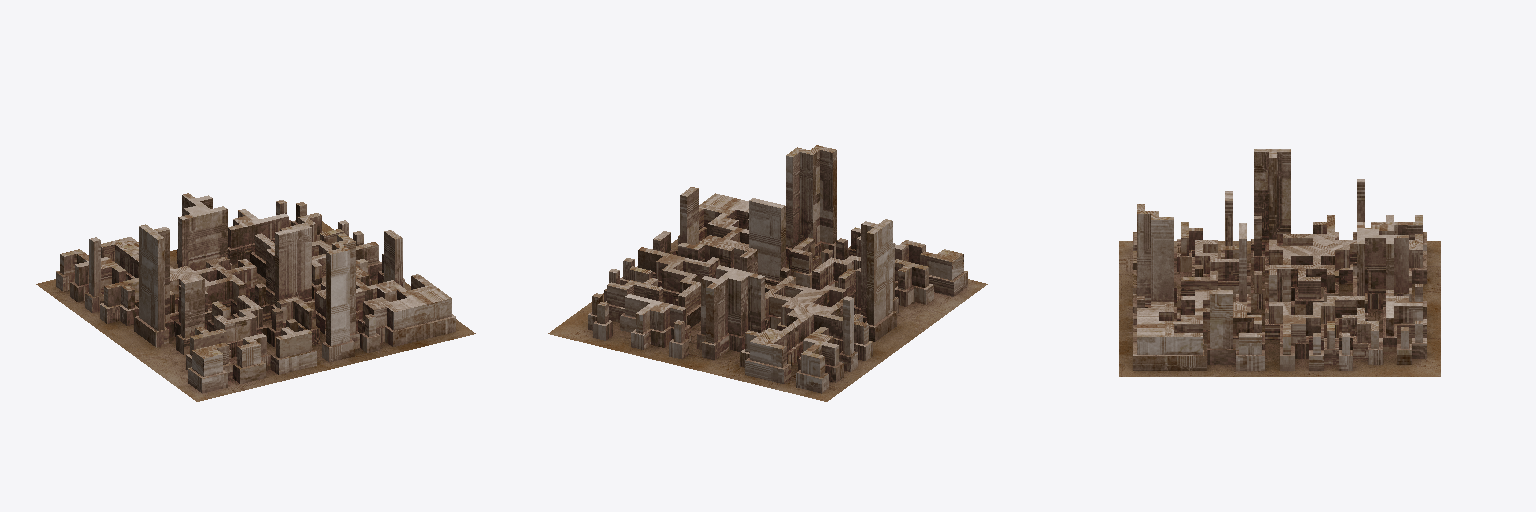
3 views of the same model, side by side, from view 1: azimuth 30°, elevation 25°; view 2: azimuth 150°, elevation 25°; view 3: azimuth 270°, elevation 25° (orthographic).
Parts seen in each view (by area): view 1: city-landscape1_Plane; view 2: city-landscape1_Plane; view 3: city-landscape1_Plane.
Boxes of the visible parts, <box> form: city-landscape1_Plane: <box>36,193,475,401</box>; city-landscape1_Plane: <box>548,145,987,401</box>; city-landscape1_Plane: <box>1119,149,1440,376</box>.
Size of the model in its own units: 16 by 5.8 by 16.
Materials: 1 (1 with a texture image).